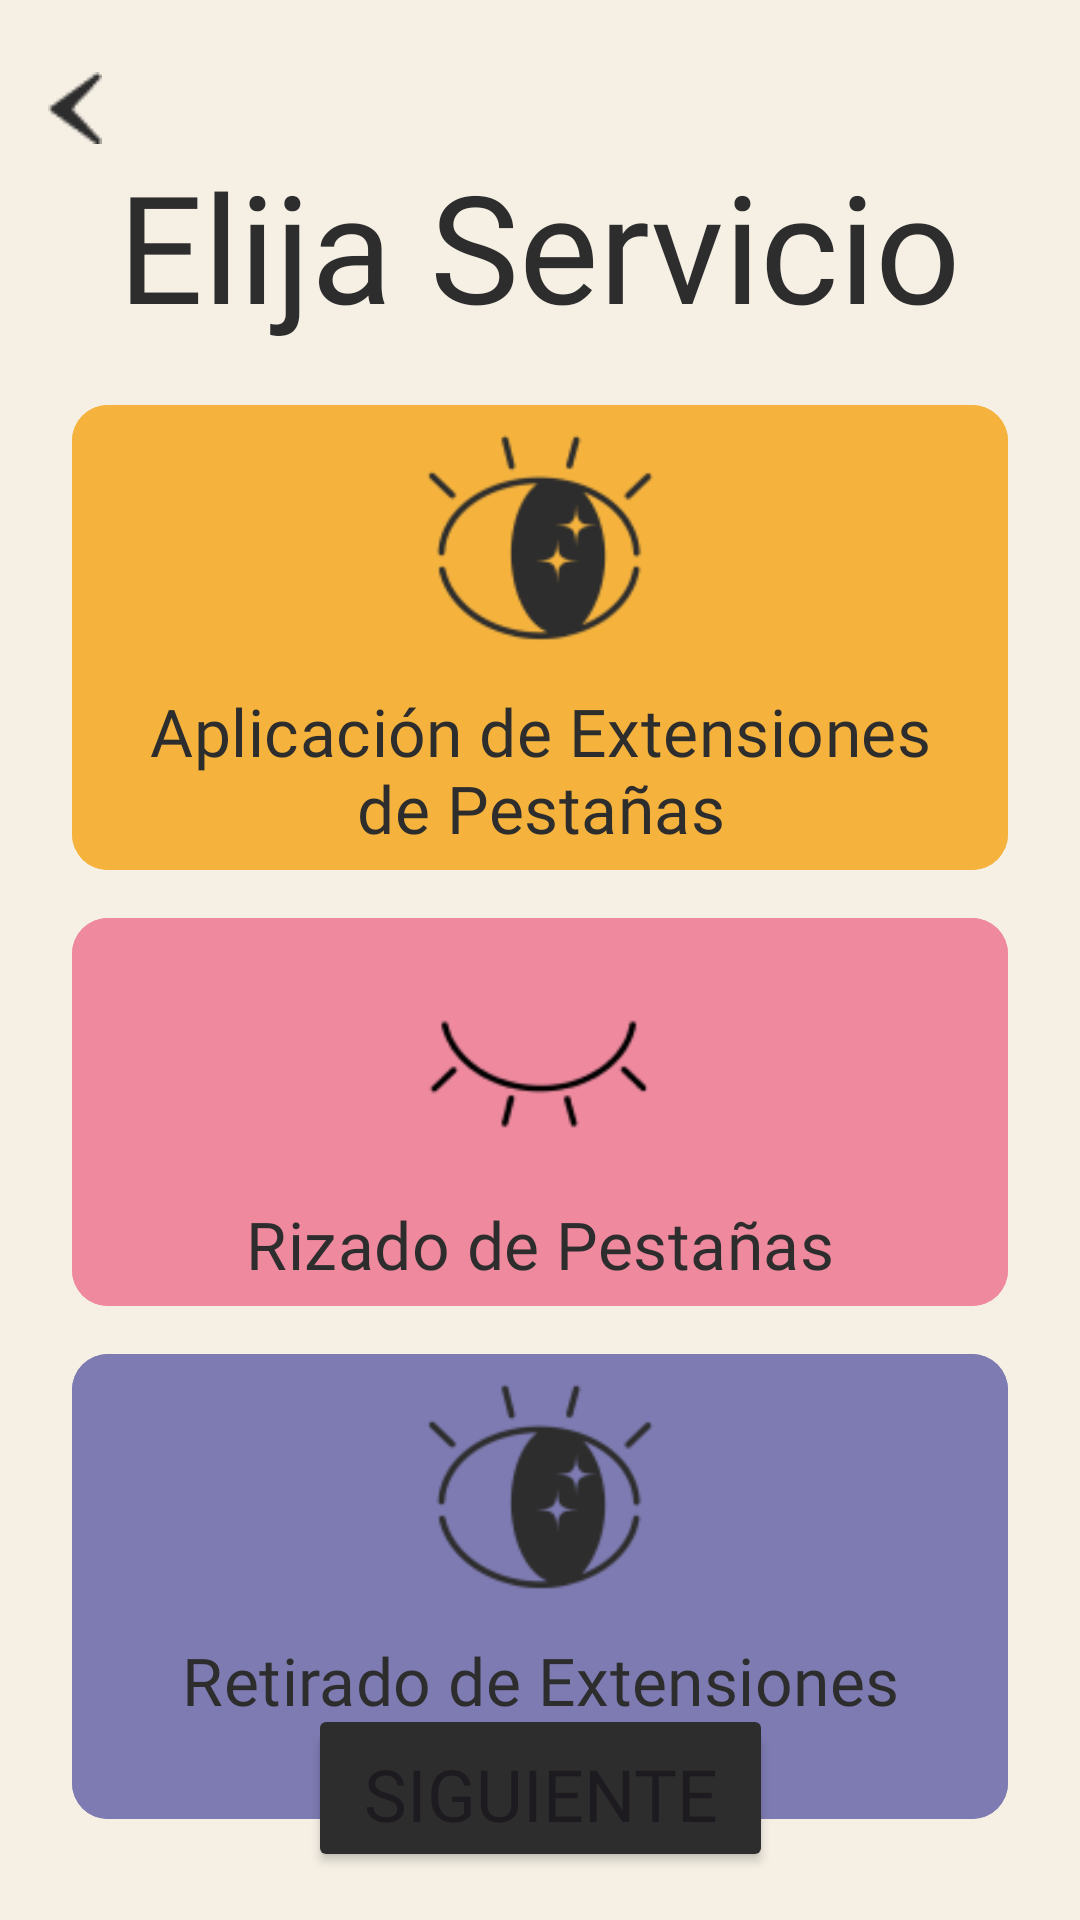

Point at icon controls on the screen. Image size 1080px x 1920px, points as (x=x, y=y).
Atrás: (x=75, y=108)
